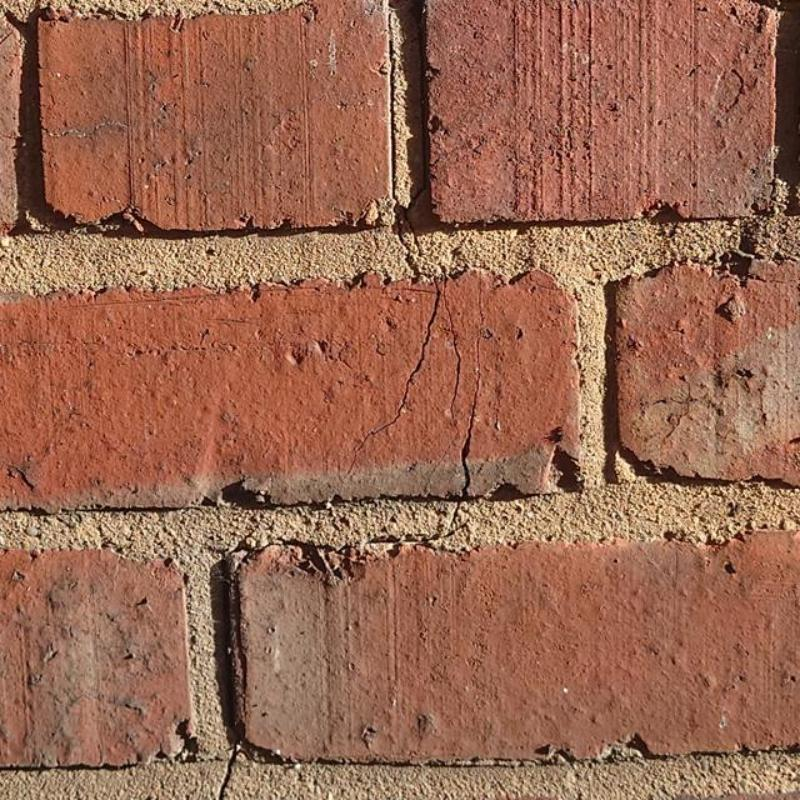crack: (344, 280, 441, 480), (424, 279, 461, 493), (404, 32, 428, 258), (389, 38, 411, 265), (461, 335, 482, 498), (217, 744, 241, 799), (478, 273, 486, 325), (449, 500, 461, 528)
